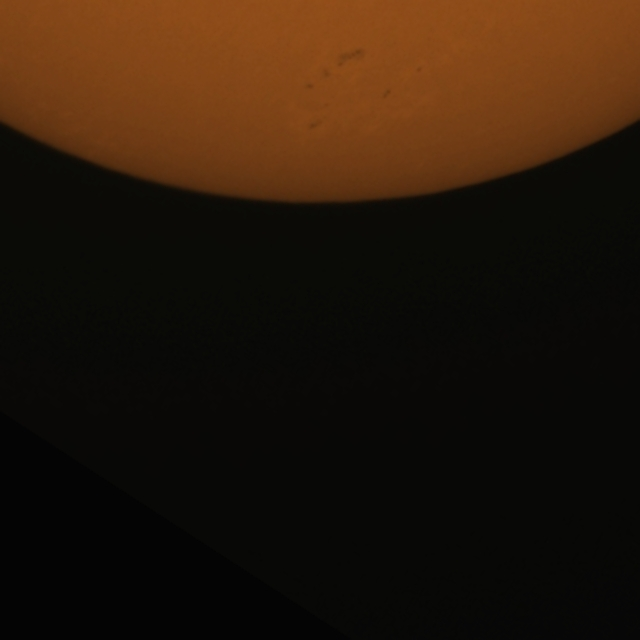sunspot: (334, 47, 364, 70), (381, 88, 392, 101), (304, 82, 315, 91), (415, 65, 424, 74)
